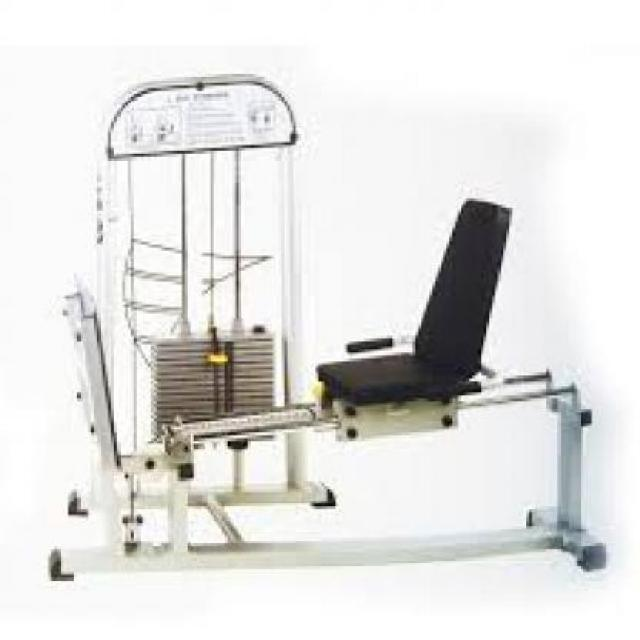leg press: (31, 63, 617, 582)
